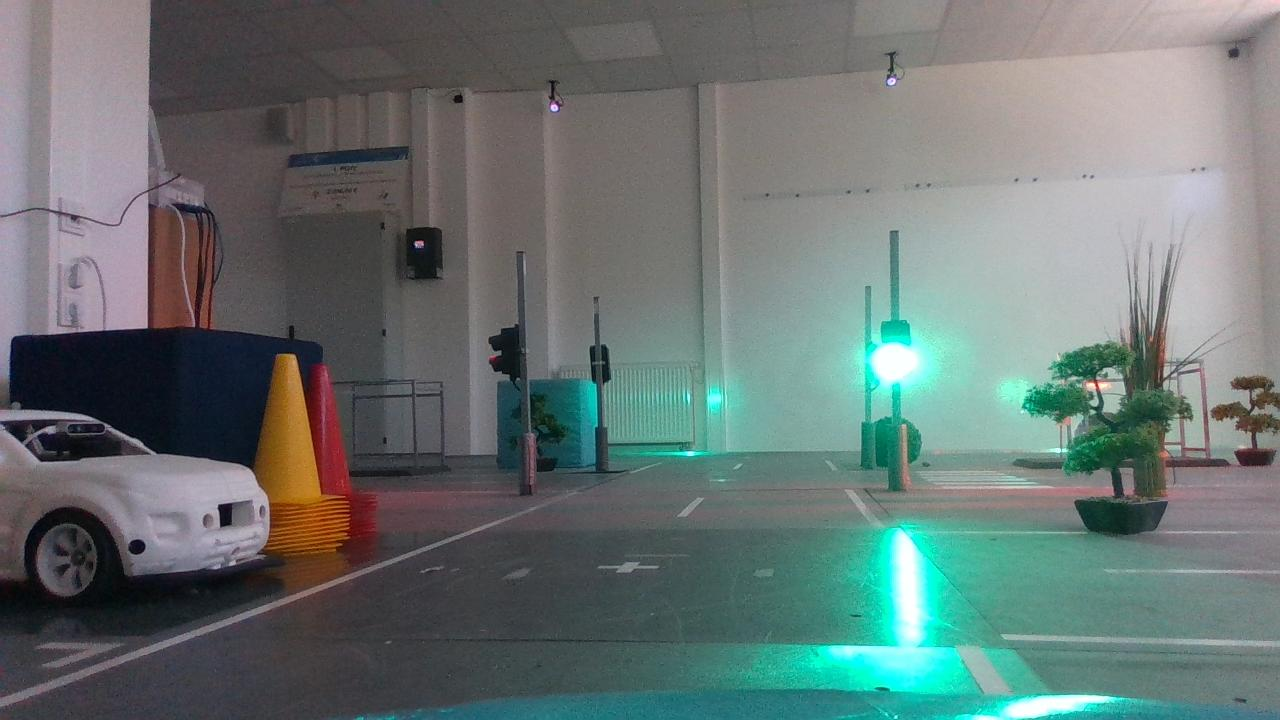traffic_light_green: (859, 315, 923, 389)
